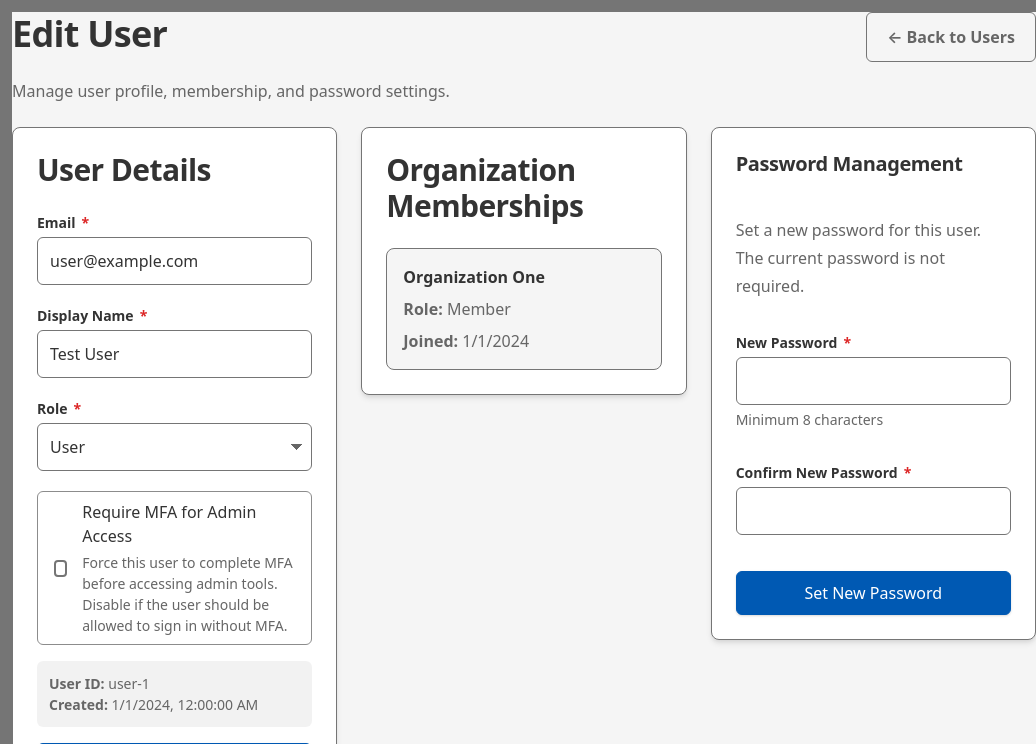
Test: AdminUserDetailPage › Password Management › shows error when password is too short
Check: the form with test id "admin-password-set-form" is shown, box 736,200 -> 1011,615
Note: Fill in the form with short password
Type "short" into the password field with test id "new-password-input" at [873, 381], box 736,357 -> 1011,405
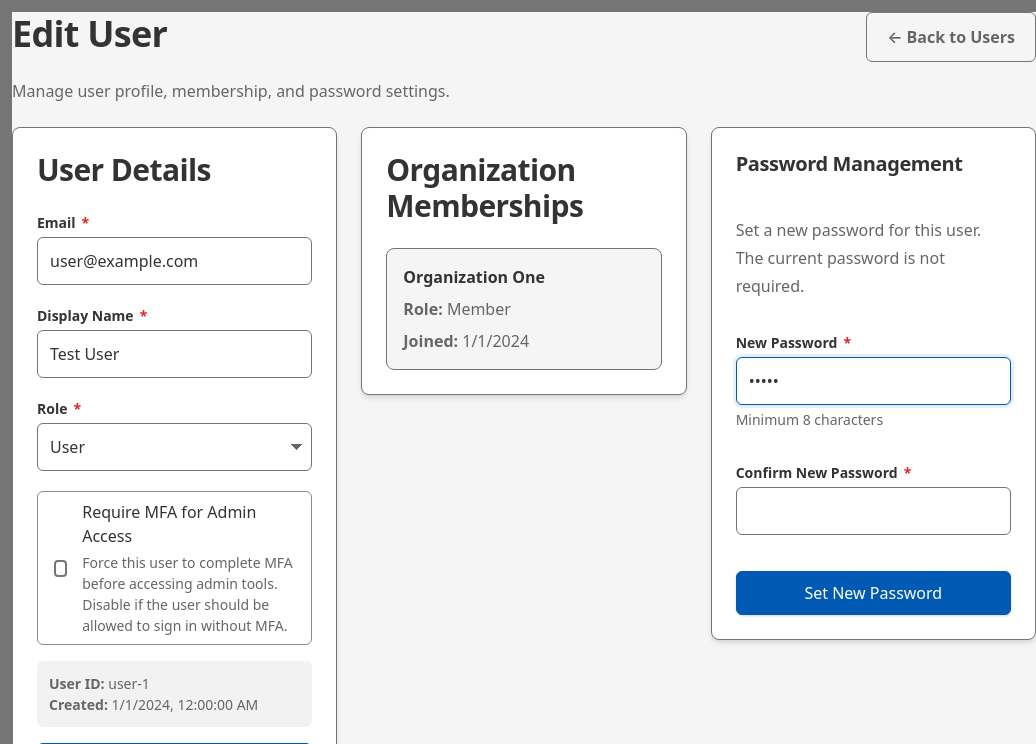
Type "short" into the password field with test id "confirm-password-input" at [873, 511], box 736,487 -> 1011,535
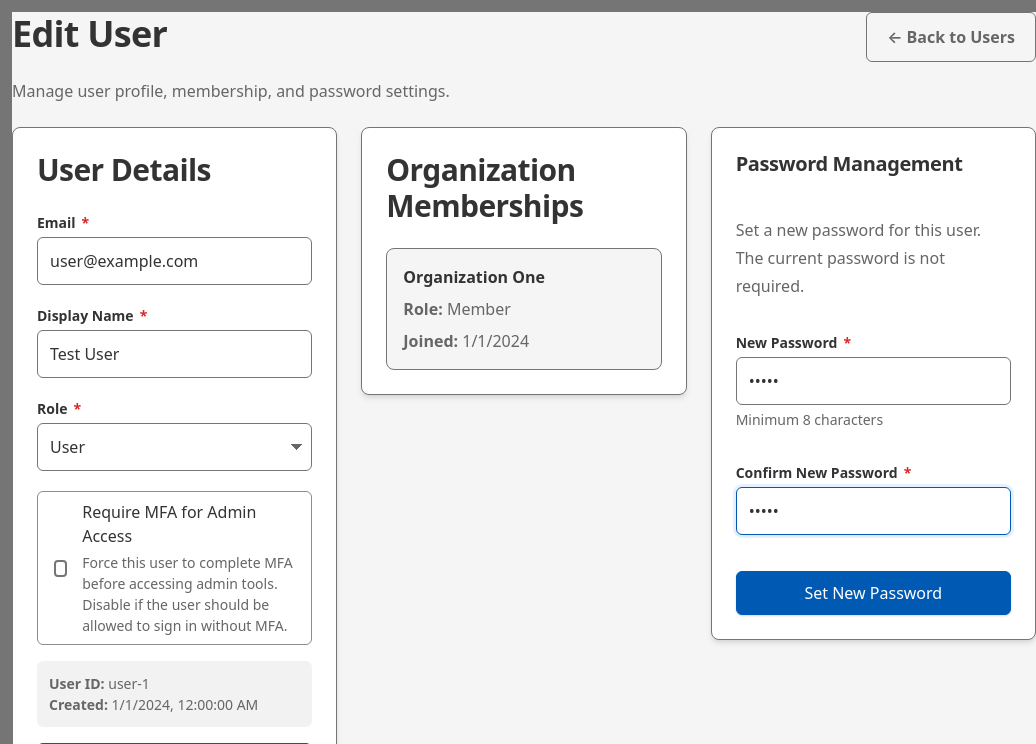
Click the button with test id "set-password-button" at [873, 593], box 736,571 -> 1011,615
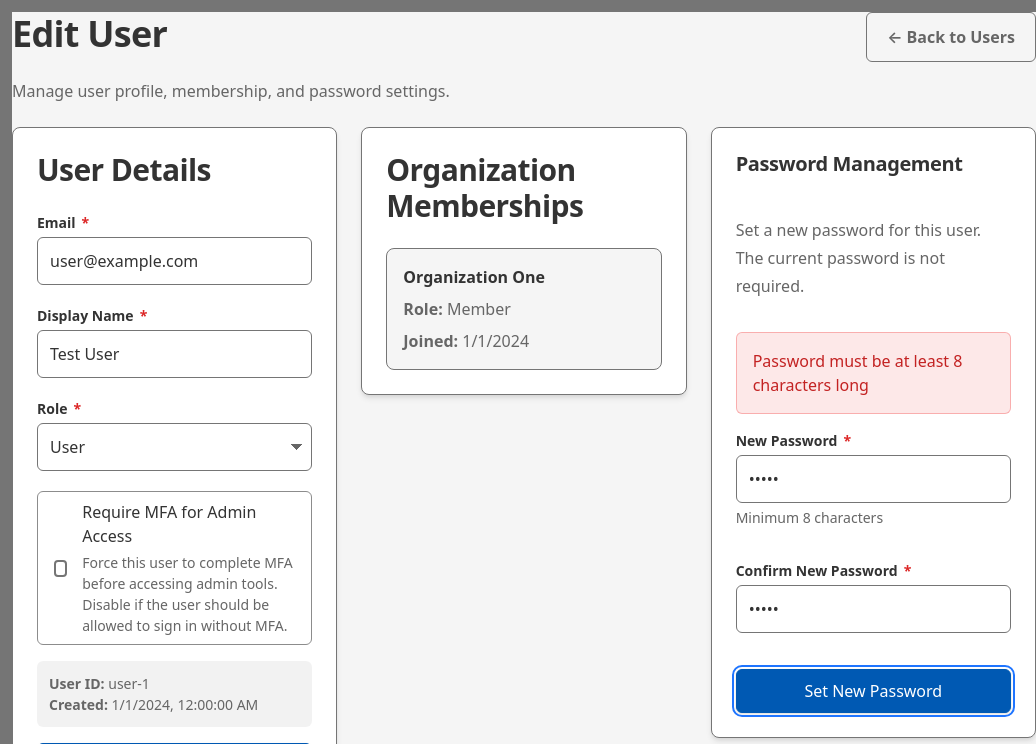
Check: the text "Password must be at least 8 characters long" is shown, box 736,332 -> 1011,414
